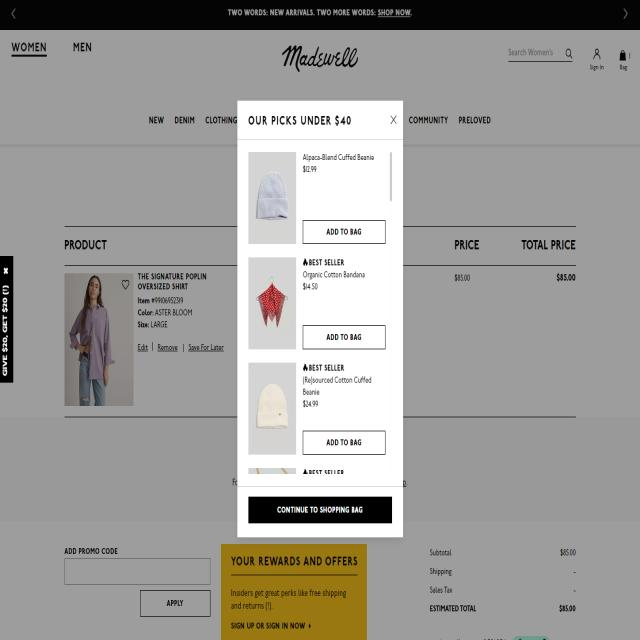sneaking: (235, 98, 406, 545)
